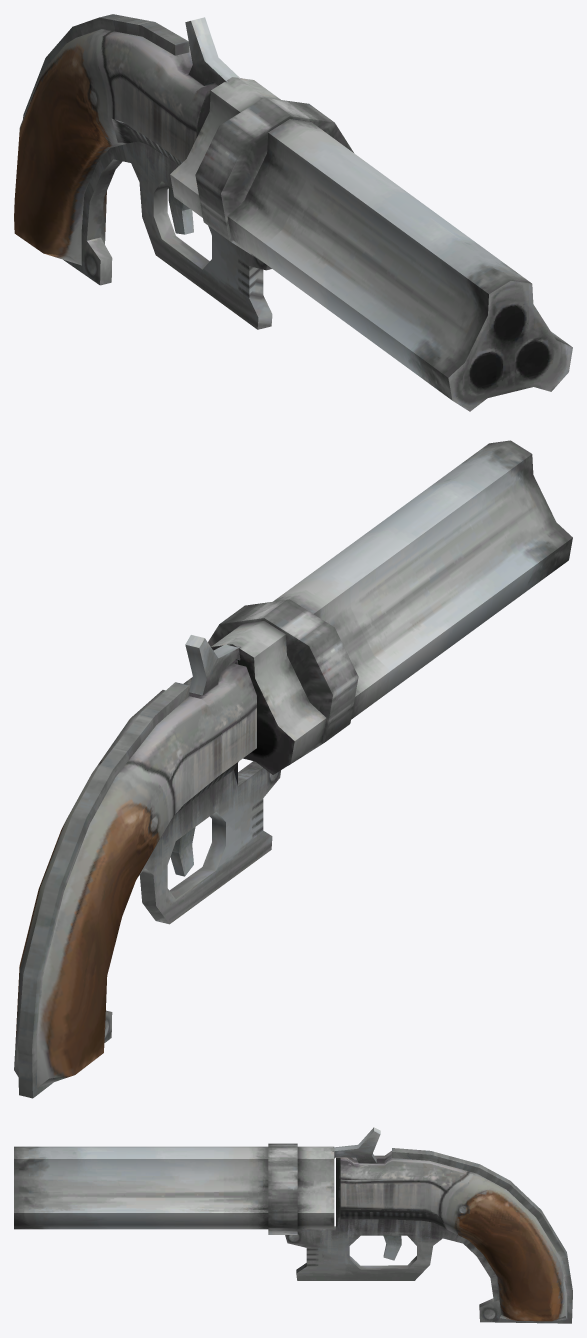
Rendered from arma_servicio.obj.
3 views of the same model, one above another, from view 1: azimuth 30°, elevation 25°; view 2: azimuth 150°, elevation 25°; view 3: azimuth 270°, elevation 25° (orthographic). The views are drawn at different scales.
Visible parts, largest first — view 1: villiers_pepperbox; view 2: villiers_pepperbox; view 3: villiers_pepperbox.
Part boxes in pixels (x1=…): villiers_pepperbox: x1=14, y1=14, x2=572, y2=411; villiers_pepperbox: x1=14, y1=440, x2=572, y2=1098; villiers_pepperbox: x1=14, y1=1127, x2=572, y2=1323.
Bounding box in the file's own units: 0.0543 × 0.126 × 0.3317.
Materials: 1 (1 with a texture image).
